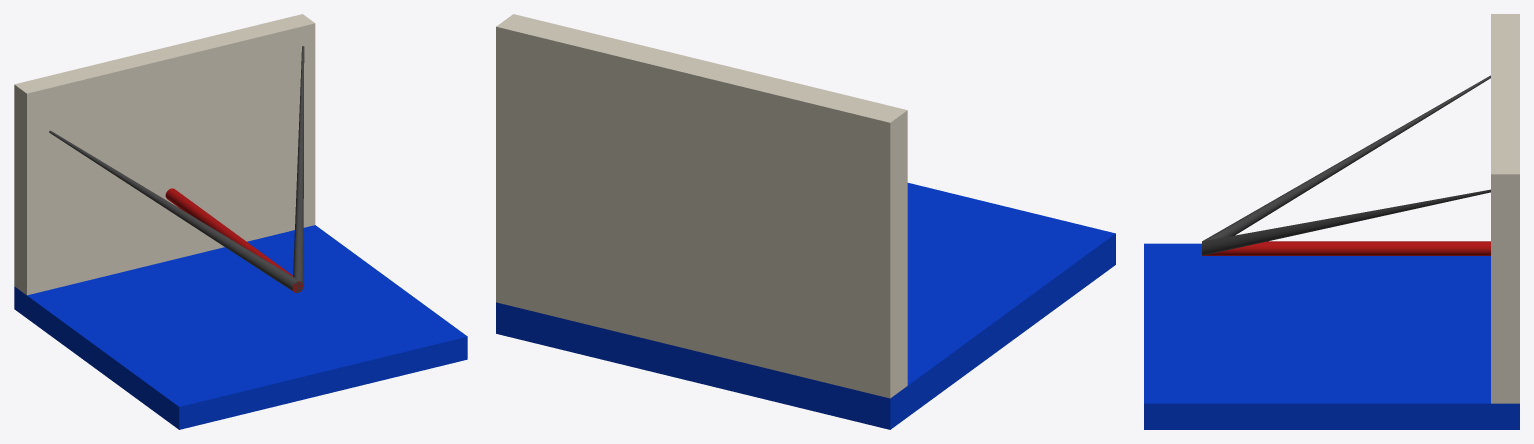
3 views of the same model, side by side, from view 1: azimuth 30°, elevation 25°; view 2: azimuth 150°, elevation 25°; view 3: azimuth 270°, elevation 25° (orthographic). The views are drawn at different scales.
Visible parts, largest first — view 1: test; view 2: test; view 3: test.
Part boxes in pixels (left/top/right/bottom): test: left=14, top=14, right=467, bottom=429; test: left=496, top=14, right=1115, bottom=429; test: left=1144, top=14, right=1519, bottom=429.
Bounding box in the file's own units: 1.31 × 0.9765 × 1.3.
